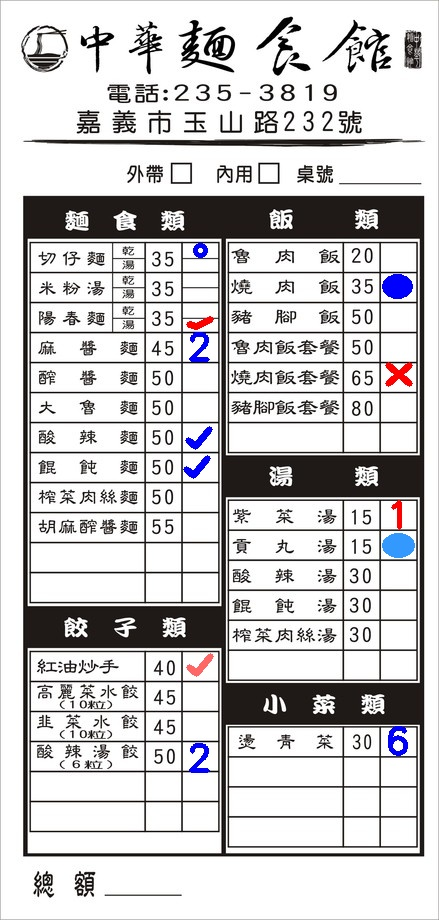marked_item: (381, 500, 417, 529), (182, 651, 218, 680), (380, 531, 416, 560), (378, 271, 414, 300), (179, 453, 215, 482), (182, 743, 218, 772), (380, 726, 416, 755), (181, 424, 217, 453), (381, 360, 417, 389), (182, 332, 218, 361), (183, 244, 217, 257), (183, 317, 217, 330)
